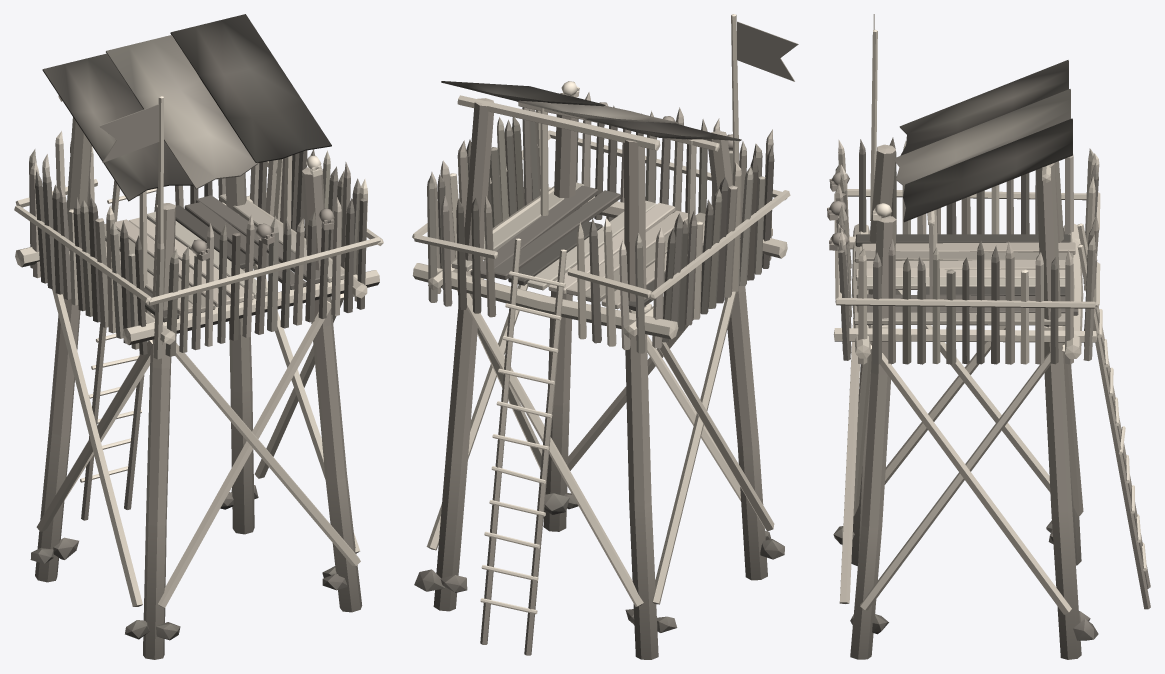
The model's file is SM_VKI_Prop_Goblin_Watchtower.fbx.
3 views of the same model, side by side, from view 1: azimuth 30°, elevation 25°; view 2: azimuth 150°, elevation 25°; view 3: azimuth 270°, elevation 25° (orthographic). The views are drawn at different scales.
Visible parts, largest first — view 1: SM_VKI_Prop_Goblin_Watchtower.001; view 2: SM_VKI_Prop_Goblin_Watchtower.001; view 3: SM_VKI_Prop_Goblin_Watchtower.001.
Boxes of the visible parts, x1,y1,x2,y2 form: SM_VKI_Prop_Goblin_Watchtower.001: (14,14,383,659); SM_VKI_Prop_Goblin_Watchtower.001: (412,14,798,659); SM_VKI_Prop_Goblin_Watchtower.001: (827,14,1150,659).
Bounding box in the file's own units: 3.81 × 7.37 × 4.01.
